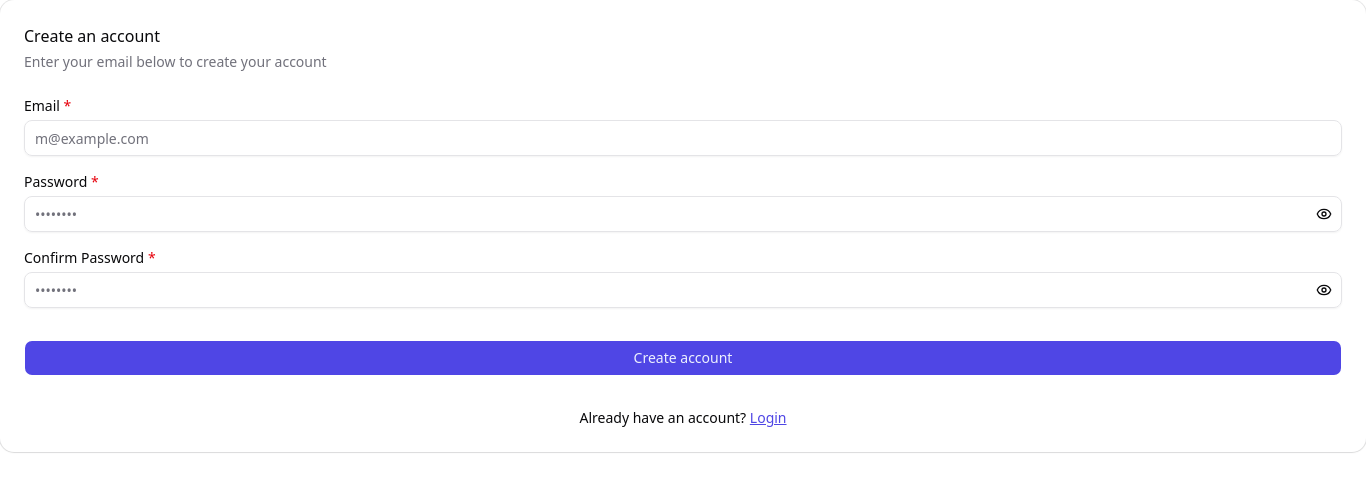
it: RegisterForm - Validation Logic › Email Validation › should show 'Email is required' error when email is empty
// Fill in password fields but leave email empty
Type "password123" into the 1st password field with placeholder "••••••••". click: (683, 214)
box: [24,196,1342,232]
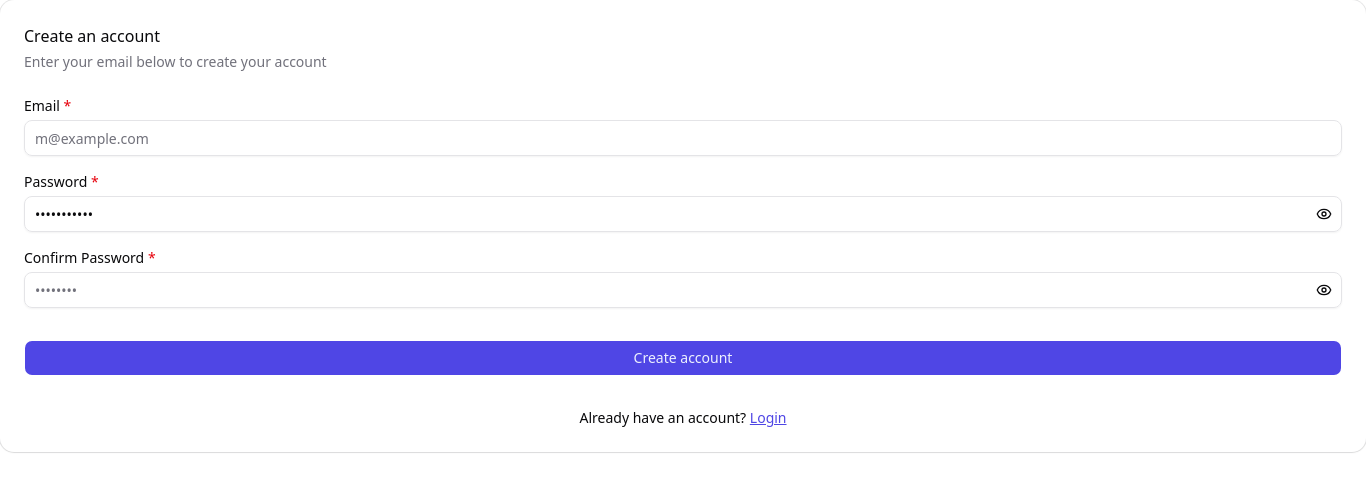
Type "password123" into the password field with placeholder "••••••••". click: (683, 290)
box: [24,272,1342,308]
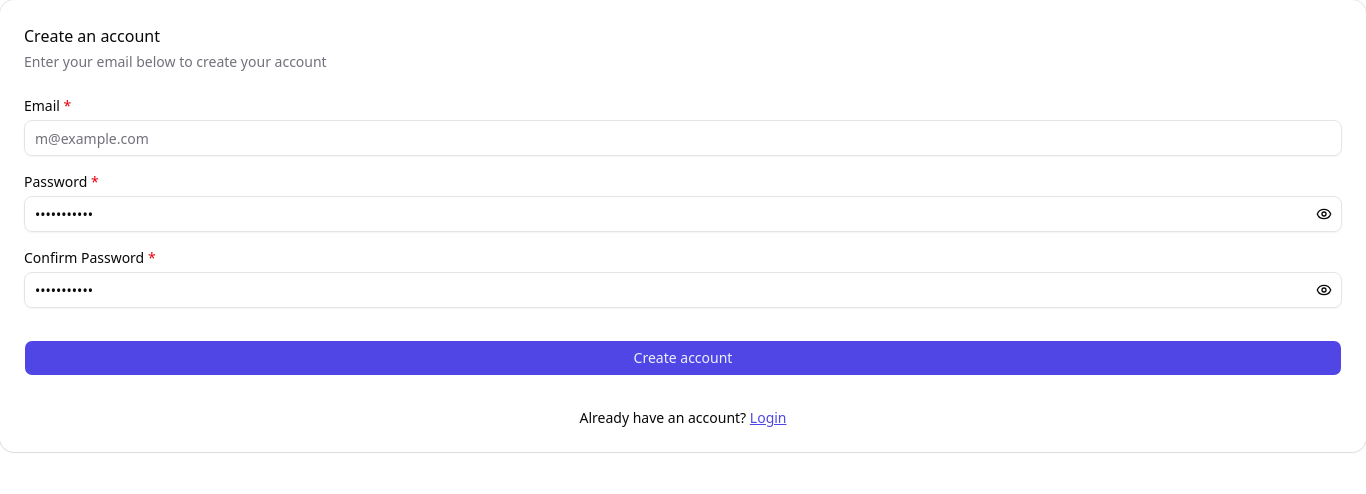
// Submit the form
Click the button "Create account". click: click(683, 358)
box: [24,340,1342,376]
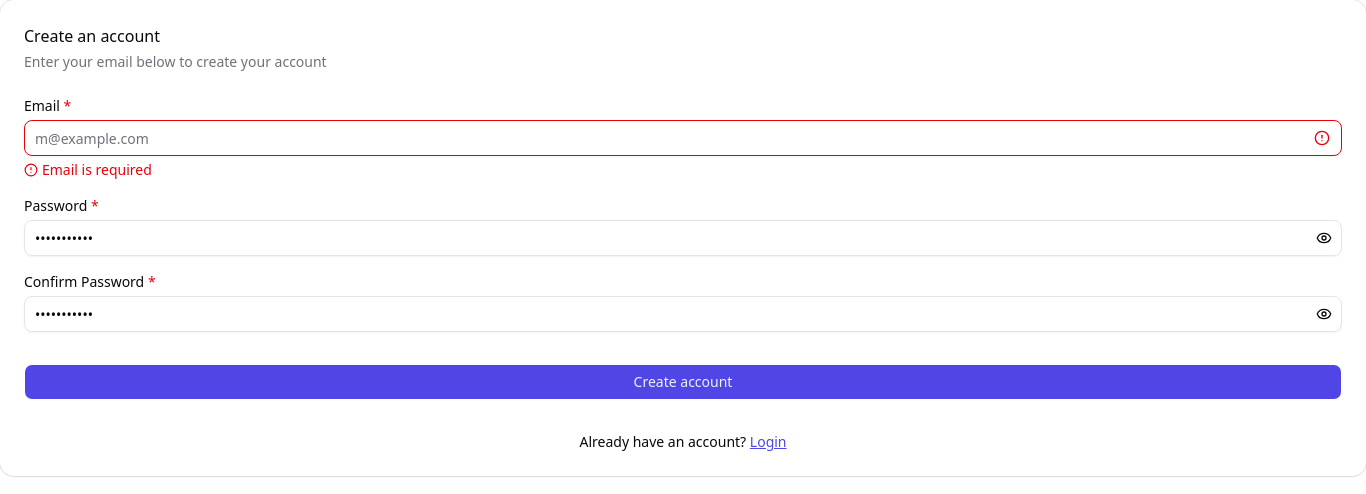
Check: the text "Email is required" is shown, box [24,160,152,179]
